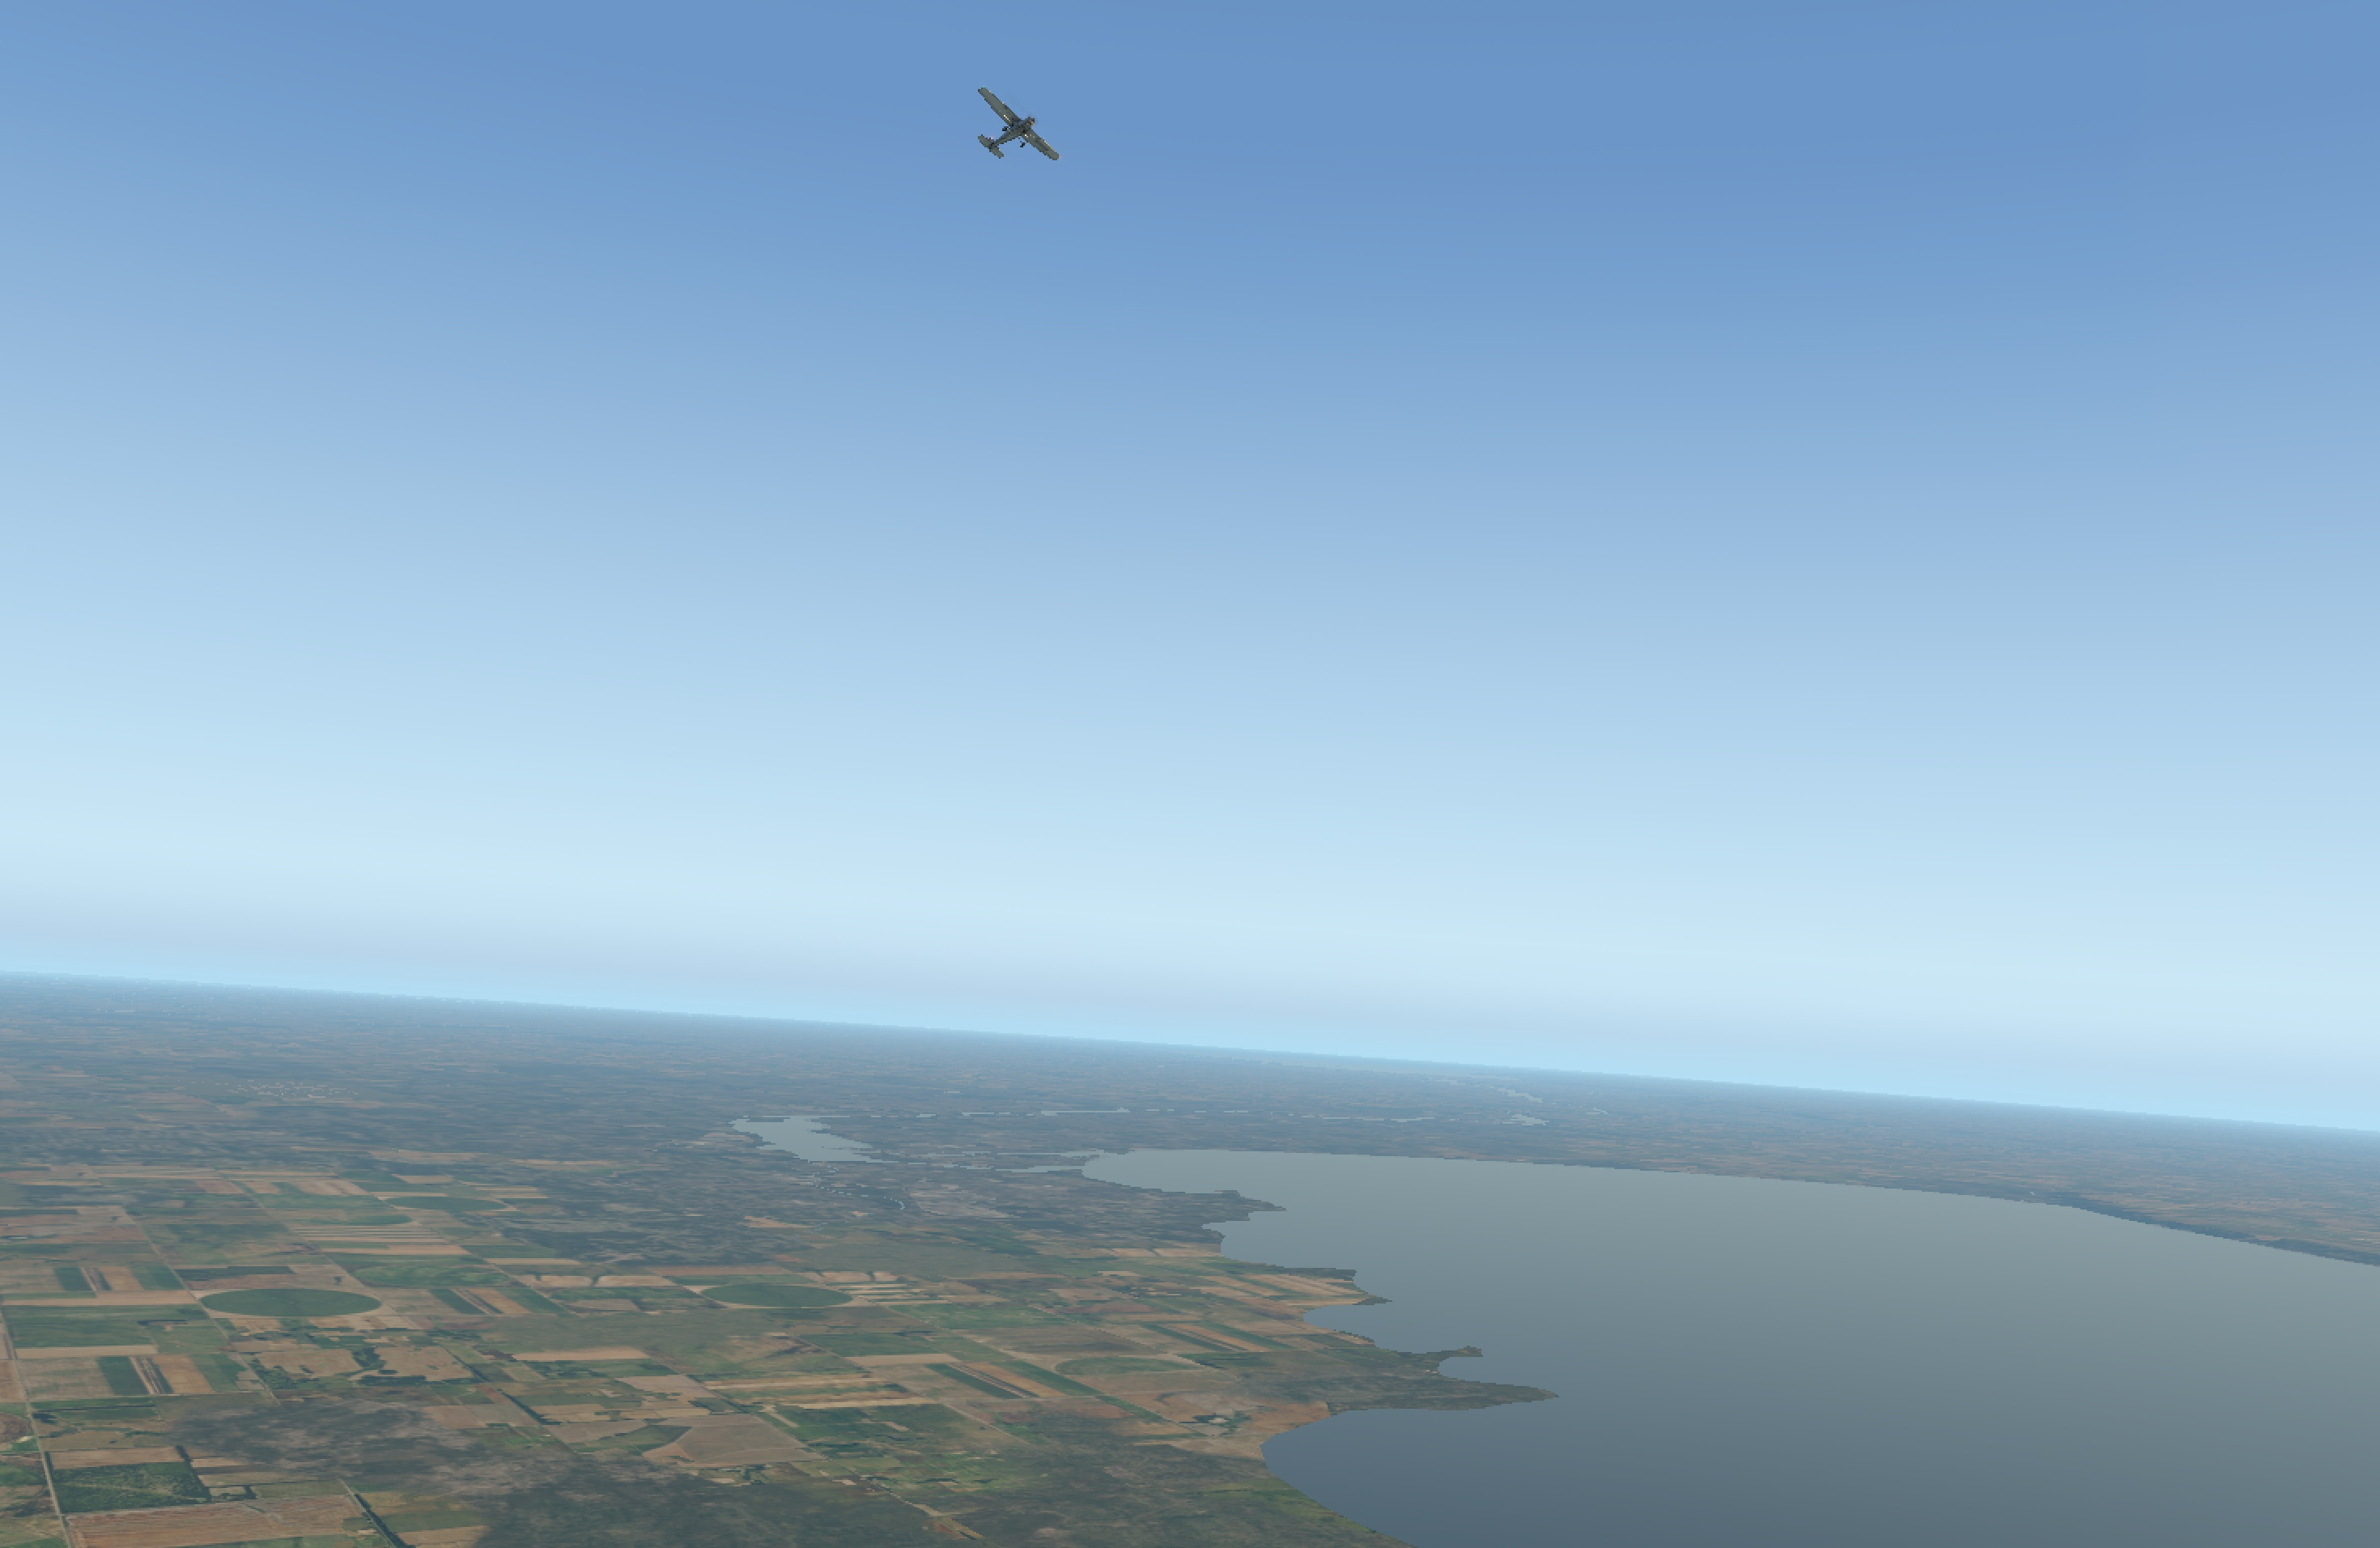aircraft: (984, 115, 1056, 142)
